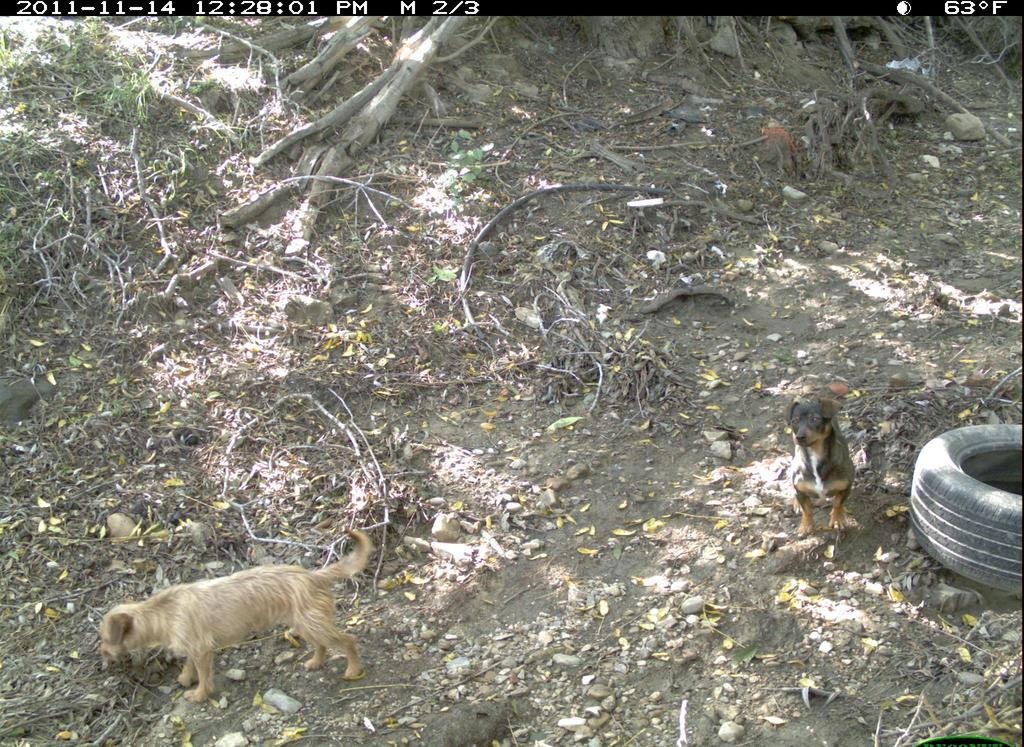dog: (88, 521, 385, 706), (771, 388, 857, 546)
